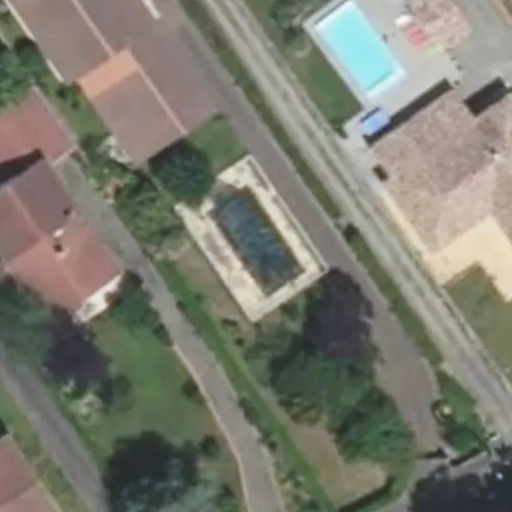pool: (198, 203, 308, 272)
